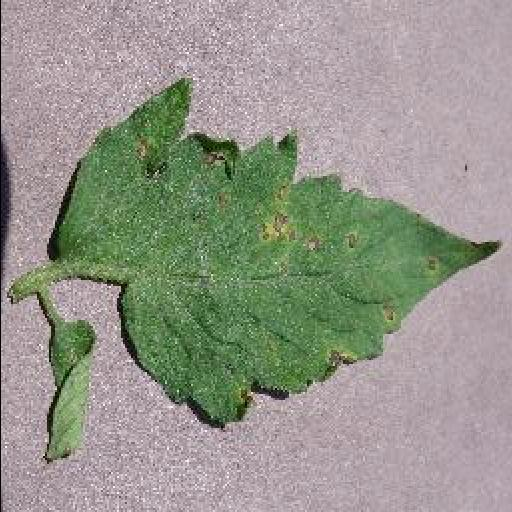disease_tomato: (59, 74, 509, 424)
